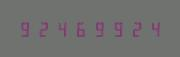four: (53, 20, 70, 37), (143, 20, 160, 37)
nine: (17, 20, 34, 37), (89, 20, 106, 37), (107, 20, 124, 37)
six: (71, 20, 88, 37)
two: (35, 20, 52, 37), (125, 20, 142, 37)
